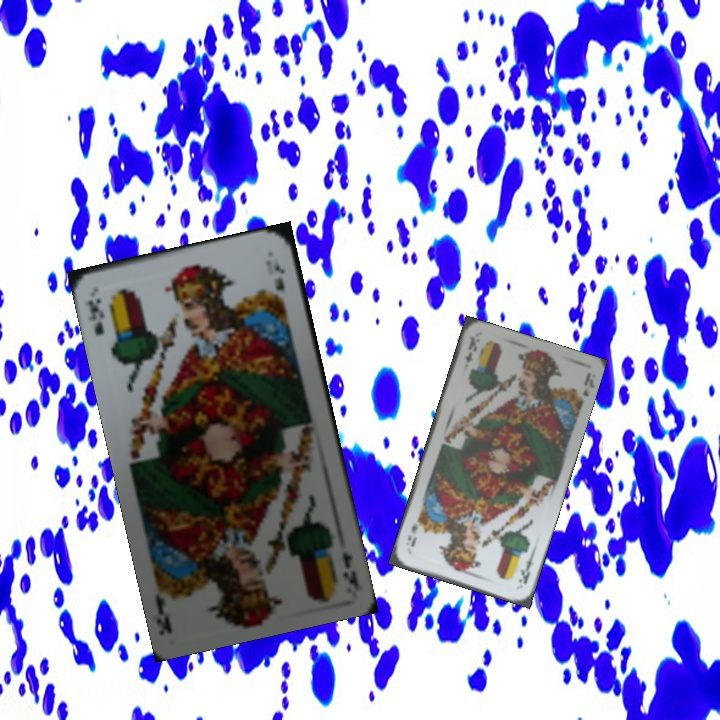EK: (338, 547, 364, 590), (82, 294, 107, 338), (514, 549, 537, 587), (461, 332, 479, 366)
